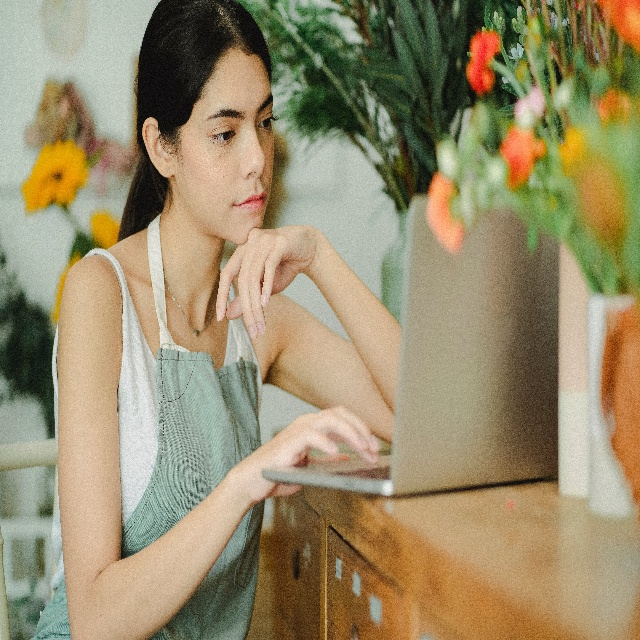Sin_guantes: (249, 406, 379, 504), (215, 223, 316, 338)
